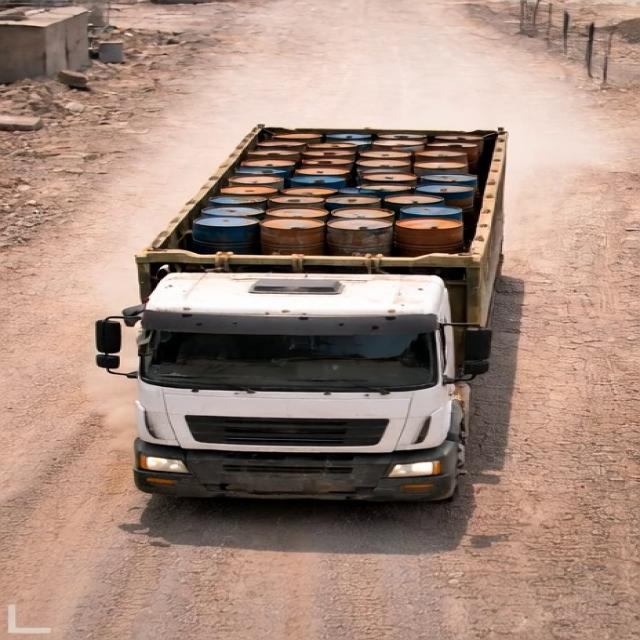Box: (133, 120, 516, 268)
Truck: (90, 117, 527, 511)
